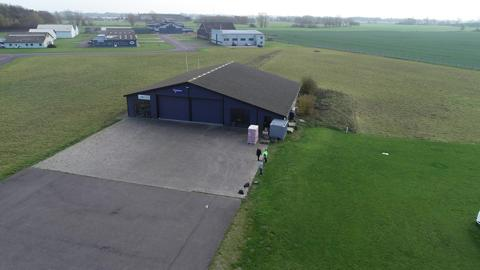RockwoolPallet: (247, 125, 260, 145)
